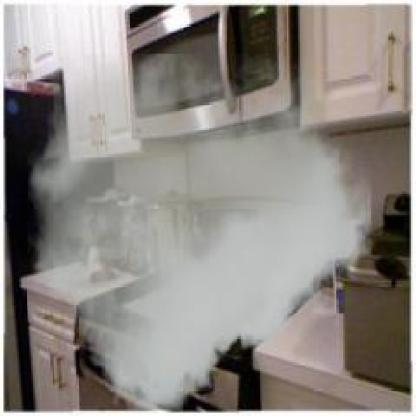Smoke: (28, 53, 371, 413)
